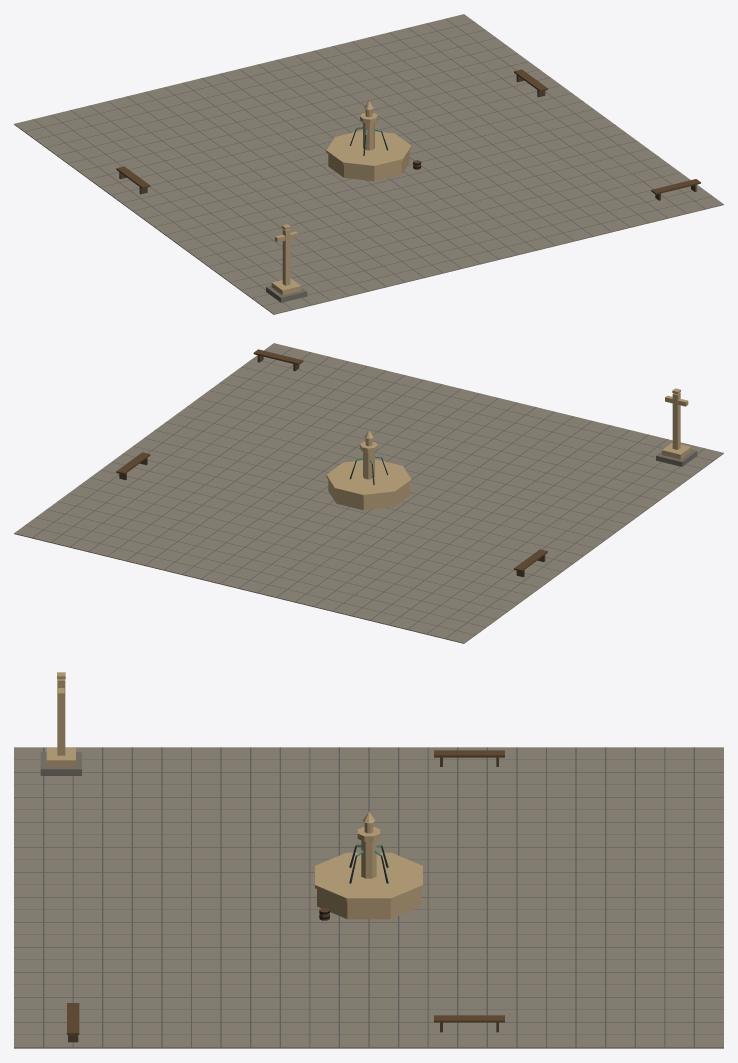
Rendered from marktplatz.glb.
3 renders of one model, top to bottom at view 1: azimuth 30°, elevation 25°; view 2: azimuth 150°, elevation 25°; view 3: azimuth 270°, elevation 25°, orthographic. The views are drawn at different scales.
Visible parts, largest first — view 1: Platz; view 2: Platz; view 3: Platz.
Boxes of the visible parts, left/top/right/bottom form: Platz: left=14, top=14, right=723, bottom=314; Platz: left=14, top=343, right=723, bottom=643; Platz: left=14, top=672, right=723, bottom=1048.
Bounding box in the file's own units: 24 × 3.51 × 24.
